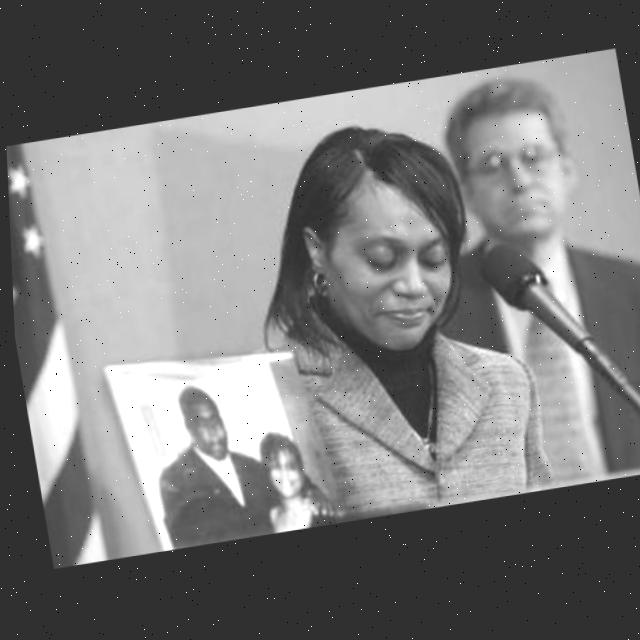face: (312, 180, 477, 367)
